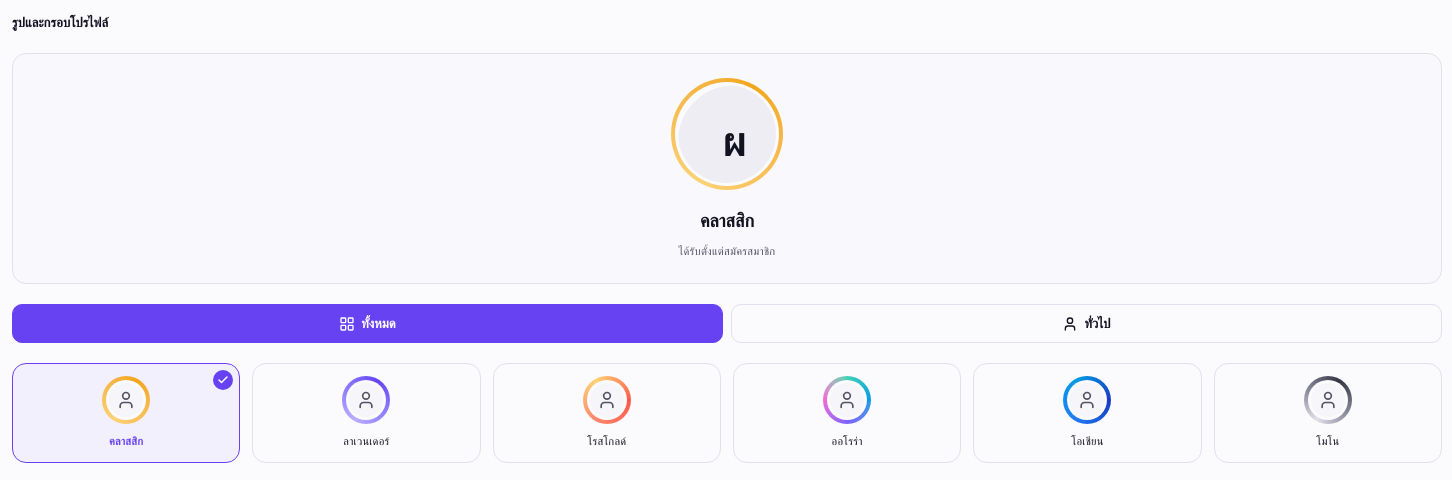
Test: ตัวเลือกกรอบโปรไฟล์ › บันทึกไม่สำเร็จ ตัวอย่างกลับเป็นกรอบเดิม
The width and height of the screenshot is (1452, 480).
Step 1. Click the radio button labelled "โมโน" → (1328, 413), box [1214,363,1442,463]
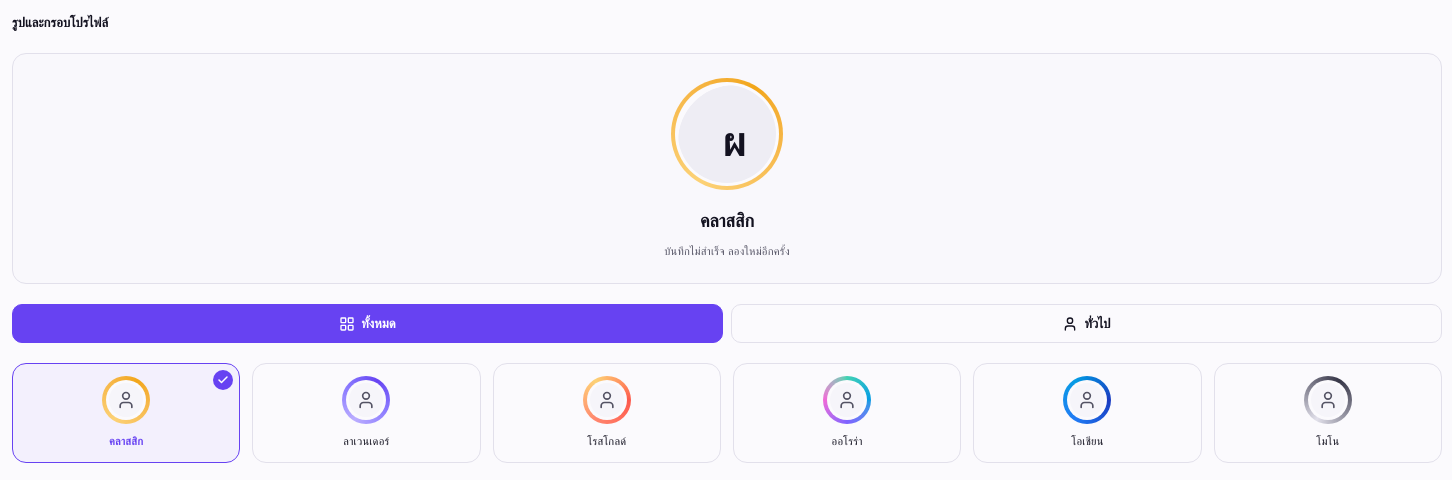
Expected: the radio button labelled "คลาสสิก" is checked, [12,363,240,463]
Now the text "บันทึกไม่สำเร็จ ลองใหม่อีกครั้ง" is shown, box [664,242,790,259]
